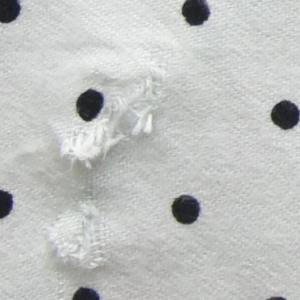Damage: (50, 64, 167, 176), (50, 199, 116, 277)
